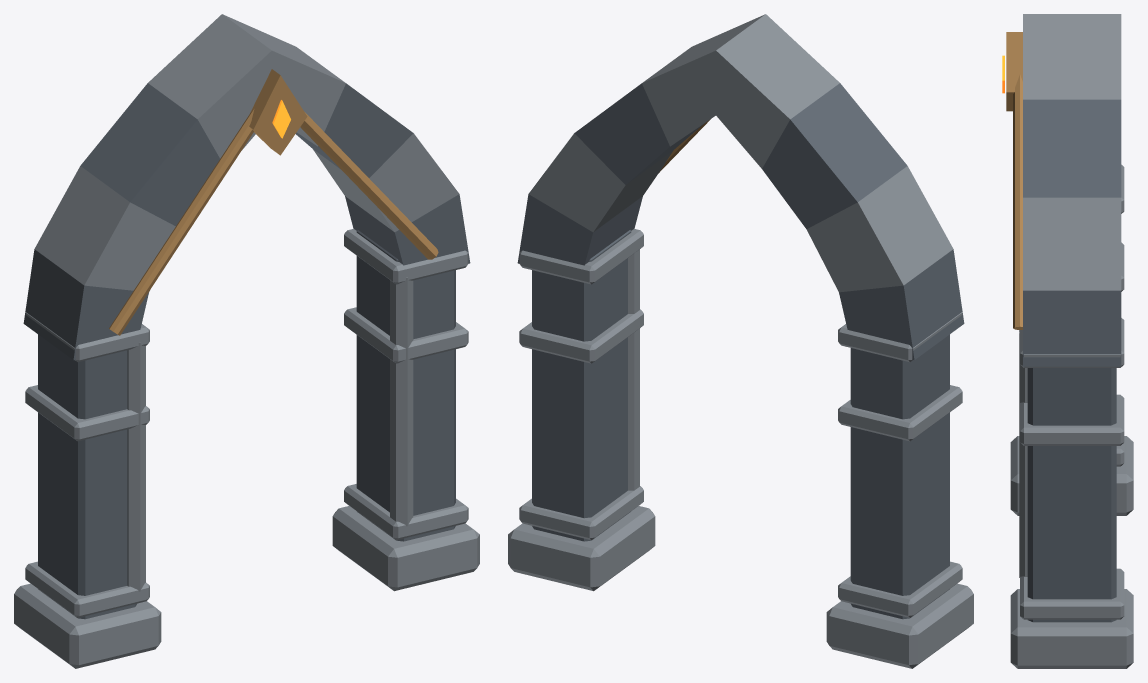
File: arch.glb
The picture shows the model from 3 angles, left to right: view 1: azimuth 30°, elevation 25°; view 2: azimuth 150°, elevation 25°; view 3: azimuth 270°, elevation 25°; orthographic projection.
Visible parts, largest first — view 1: arch_body_mesh; view 2: arch_body_mesh; view 3: arch_body_mesh.
Part boxes in pixels (<box>): arch_body_mesh: <box>14,14,479,668</box>; arch_body_mesh: <box>508,14,973,668</box>; arch_body_mesh: <box>1002,14,1133,668</box>.
Size of the model in its own units: 3.04 by 4.02 by 0.855.
